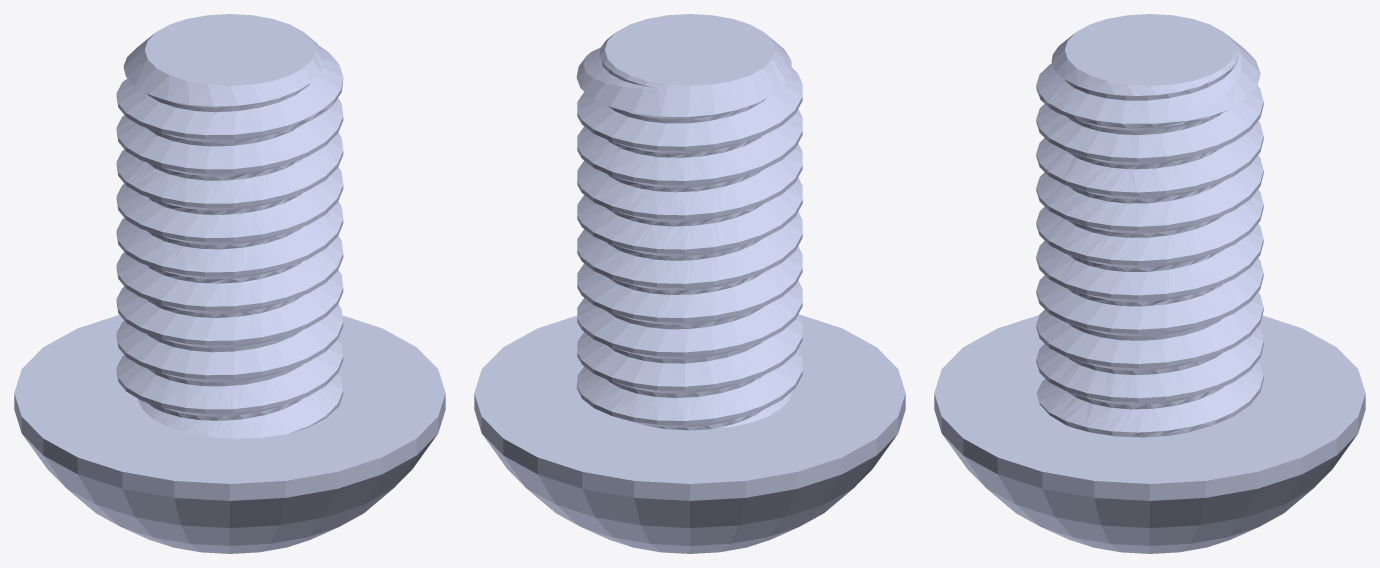
Rendered from T200_07_T200STEP_T200STEPSTEP_T200STEP1_04_T200STEP1.obj.
3 renders of one model, left to right at view 1: azimuth 30°, elevation 25°; view 2: azimuth 150°, elevation 25°; view 3: azimuth 270°, elevation 25°, orthographic.
Bounding box in the file's own units: 0.0057 × 0.00665 × 0.0057.
